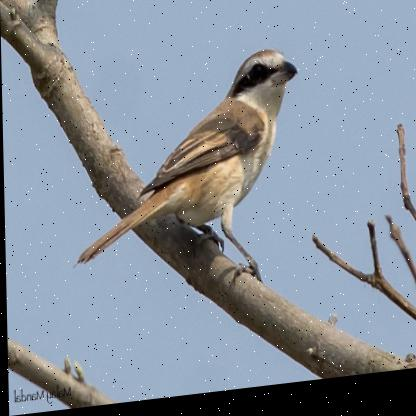Burung: (72, 48, 303, 303)
